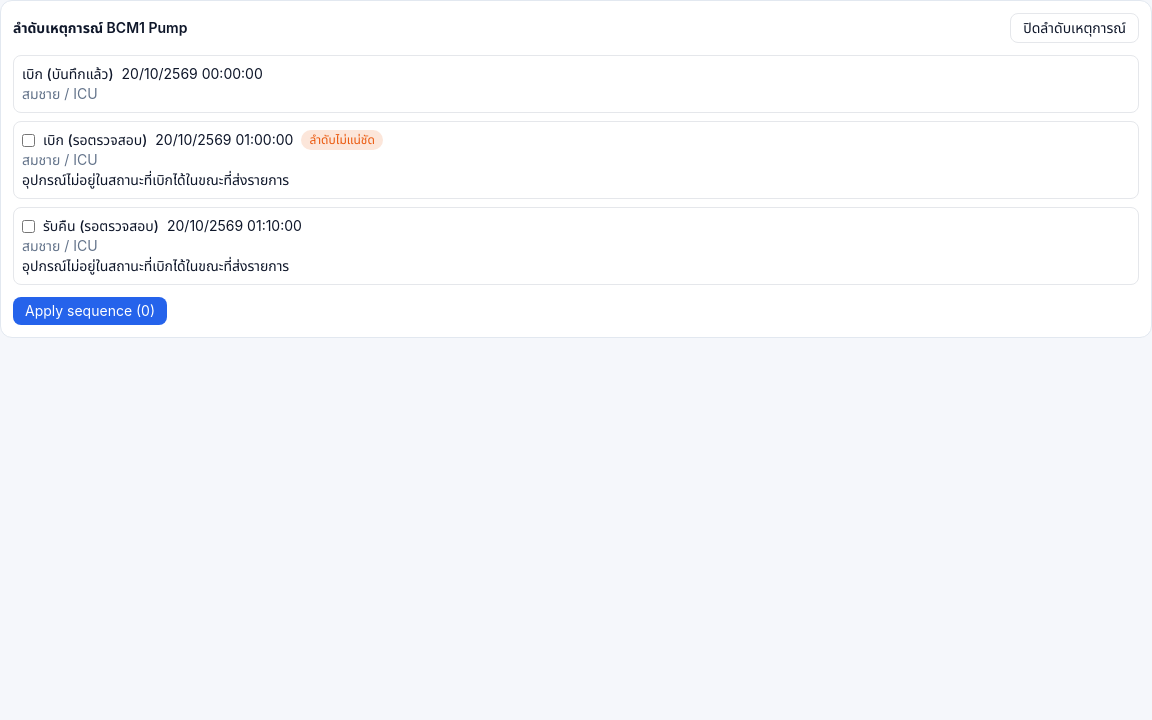
Scenario: SyncTimelinePanel › handles 409 by refreshing and closing the dialog
Click the checkbox named "เลือก เบิก 20/10/2569 01:00:00": (28, 140) [22,134,35,146]
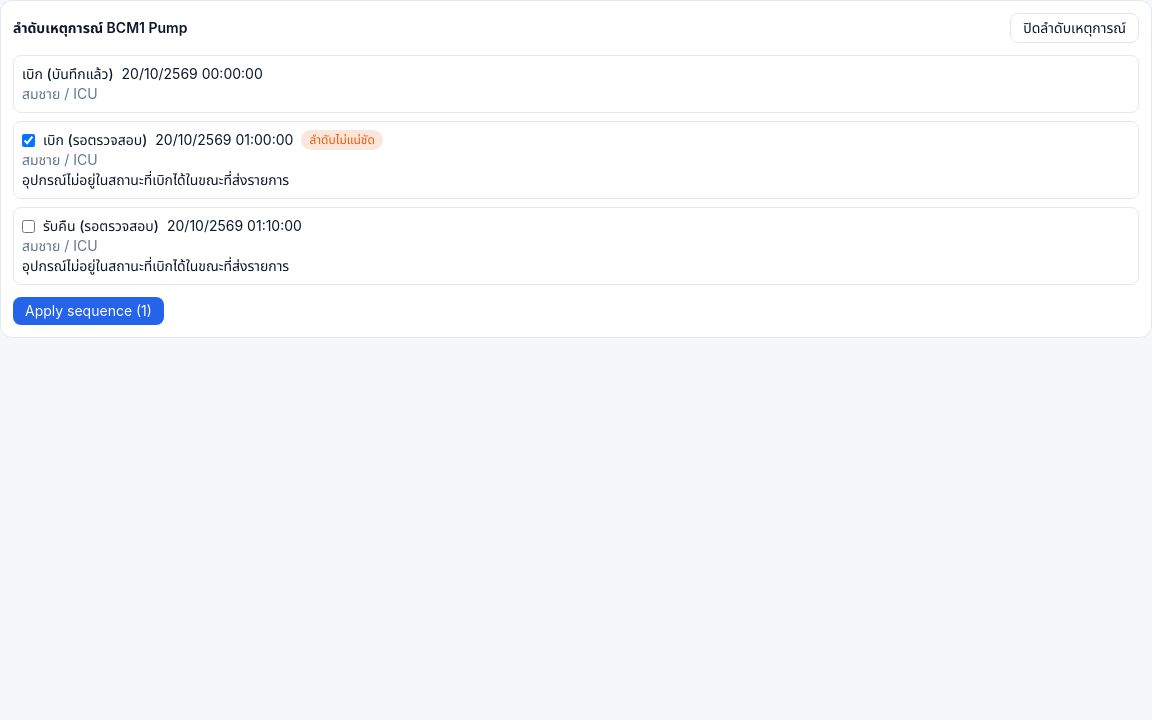
Click the button "Apply sequence (1)": (88, 311) [13,297,164,325]
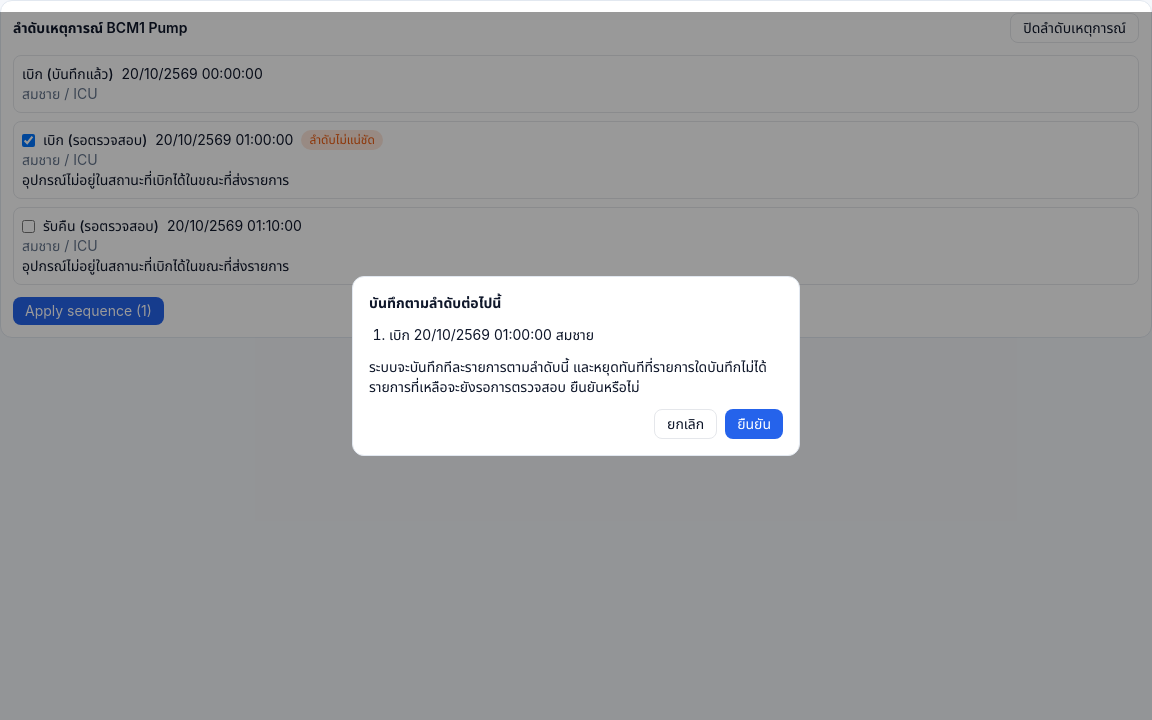
Click the button "ยืนยัน": (754, 424) [725,409,783,439]
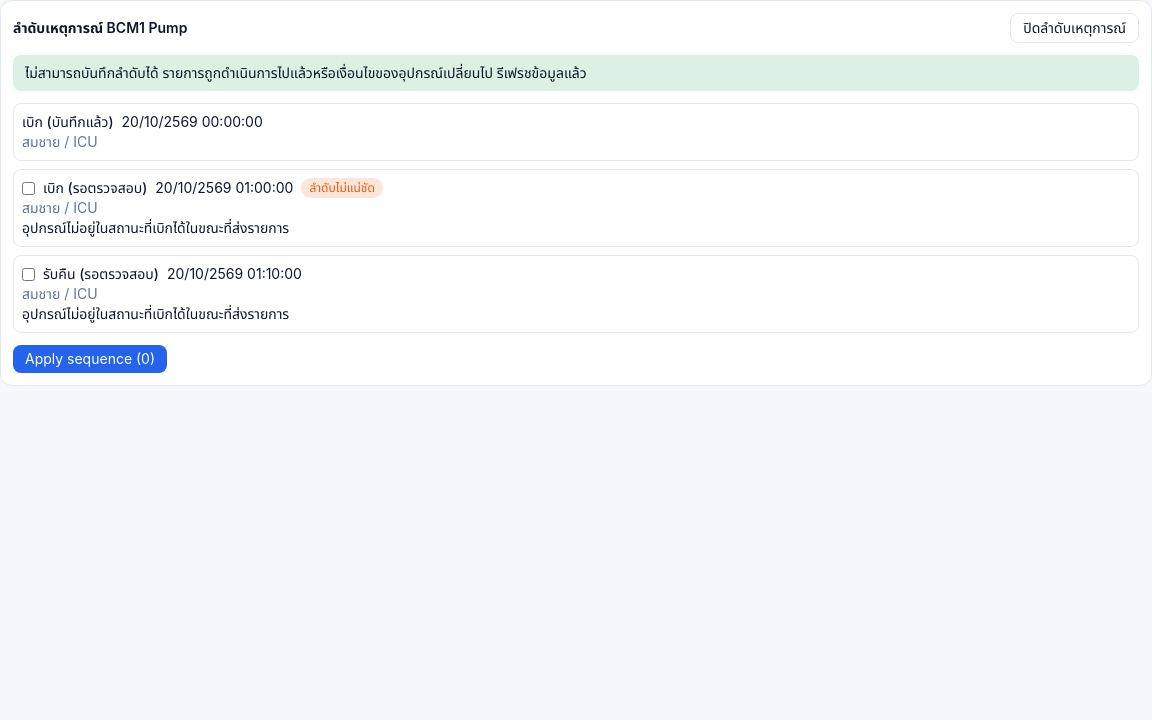
expect the text "ถูกดำเนินการไปแล้ว" is shown: met, box [25,64,587,81]
expect the dialog is gone: met
